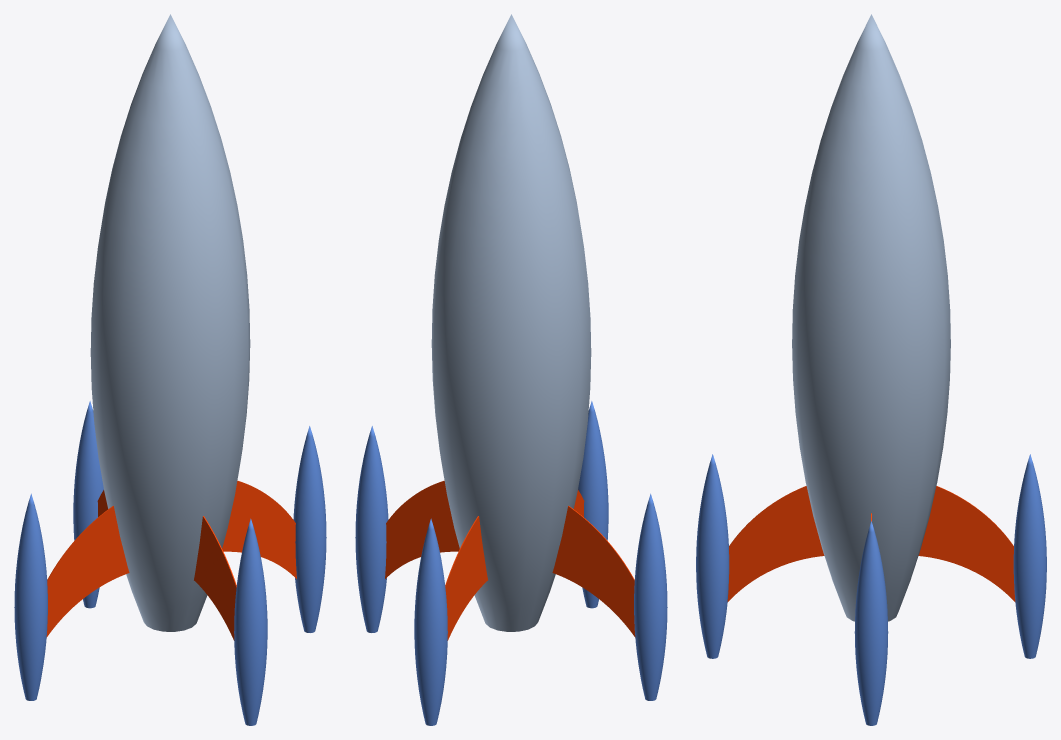
Rendered from rocket-2.obj.
3 views of the same model, side by side, from view 1: azimuth 30°, elevation 25°; view 2: azimuth 150°, elevation 25°; view 3: azimuth 270°, elevation 25° (orthographic).
Visible parts, largest first — view 1: Mesh1 COMPONENT0 Model, Mesh3 COMPONENT2 Model, Mesh2 COMPONENT1 Model, Mesh8 COMPONENT7 Model, Mesh4 COMPONENT3 Model, Mesh6 COMPONENT5 Model, Mesh5 COMPONENT4 Model, Mesh9 COMPONENT8 Model; view 2: Mesh1 COMPONENT0 Model, Mesh5 COMPONENT4 Model, Mesh2 COMPONENT1 Model, Mesh8 COMPONENT7 Model, Mesh4 COMPONENT3 Model, Mesh6 COMPONENT5 Model, Mesh3 COMPONENT2 Model, Mesh7 COMPONENT6 Model; view 3: Mesh1 COMPONENT0 Model, Mesh7 COMPONENT6 Model, Mesh9 COMPONENT8 Model, Mesh3 COMPONENT2 Model, Mesh5 COMPONENT4 Model, Mesh4 COMPONENT3 Model.
Boxes of the visible parts, <box> form: Mesh1 COMPONENT0 Model: <box>90,14,250,631</box>; Mesh3 COMPONENT2 Model: <box>234,518,267,725</box>; Mesh2 COMPONENT1 Model: <box>14,493,47,700</box>; Mesh8 COMPONENT7 Model: <box>46,506,129,637</box>; Mesh4 COMPONENT3 Model: <box>293,426,326,632</box>; Mesh6 COMPONENT5 Model: <box>222,480,296,578</box>; Mesh5 COMPONENT4 Model: <box>73,401,103,608</box>; Mesh9 COMPONENT8 Model: <box>194,516,236,640</box>; Mesh1 COMPONENT0 Model: <box>431,14,591,631</box>; Mesh5 COMPONENT4 Model: <box>414,518,447,725</box>; Mesh2 COMPONENT1 Model: <box>634,493,667,700</box>; Mesh8 COMPONENT7 Model: <box>552,506,635,637</box>; Mesh4 COMPONENT3 Model: <box>355,426,388,632</box>; Mesh6 COMPONENT5 Model: <box>385,480,459,578</box>; Mesh3 COMPONENT2 Model: <box>578,401,608,608</box>; Mesh7 COMPONENT6 Model: <box>445,516,487,640</box>; Mesh1 COMPONENT0 Model: <box>792,14,950,621</box>; Mesh7 COMPONENT6 Model: <box>918,486,1015,601</box>; Mesh9 COMPONENT8 Model: <box>727,486,824,601</box>; Mesh3 COMPONENT2 Model: <box>696,454,729,658</box>; Mesh5 COMPONENT4 Model: <box>1013,454,1046,658</box>; Mesh4 COMPONENT3 Model: <box>854,521,888,725</box>.
Size of the model in its own units: 6.58 by 13.3 by 6.58.
